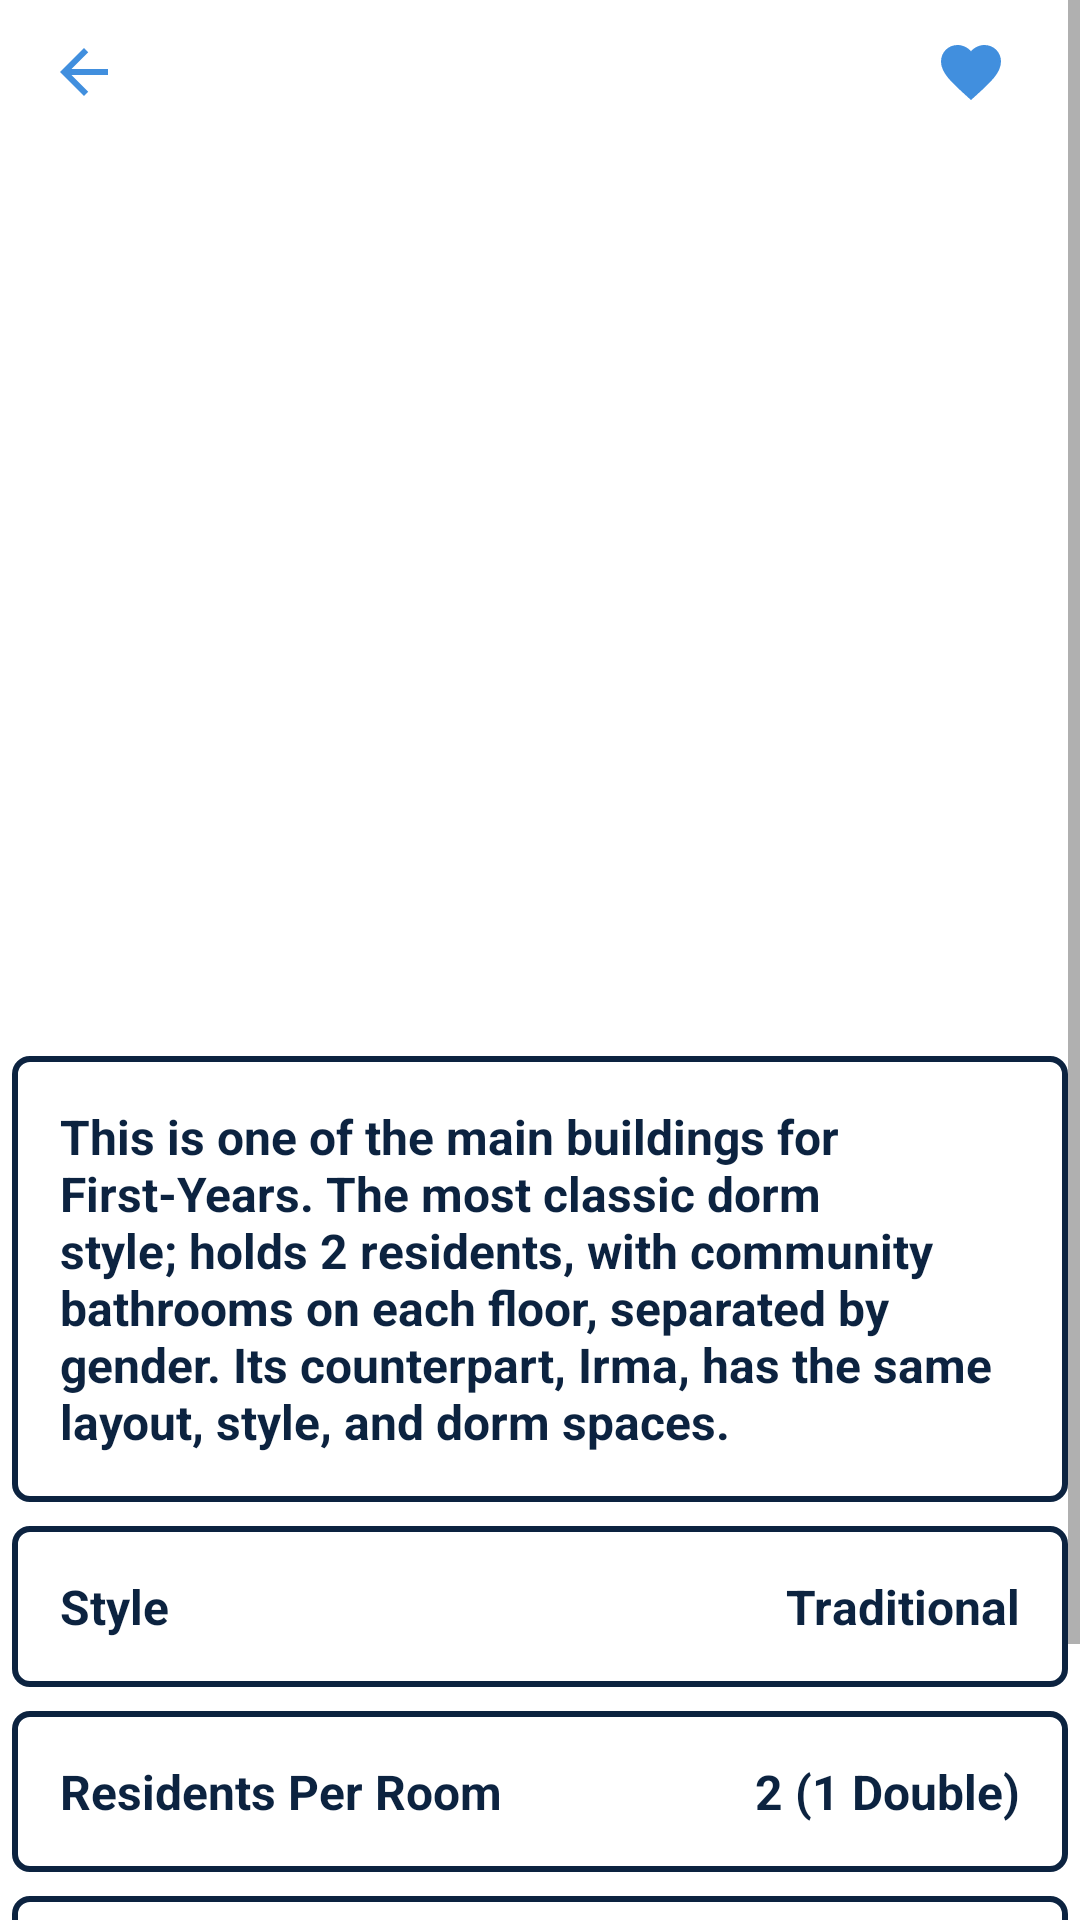

Icons on this 1080w x 1920h Android screen, each with the point to tap as (x=x, y=y):
Back: (x=84, y=72)
favorite: (x=971, y=72)
